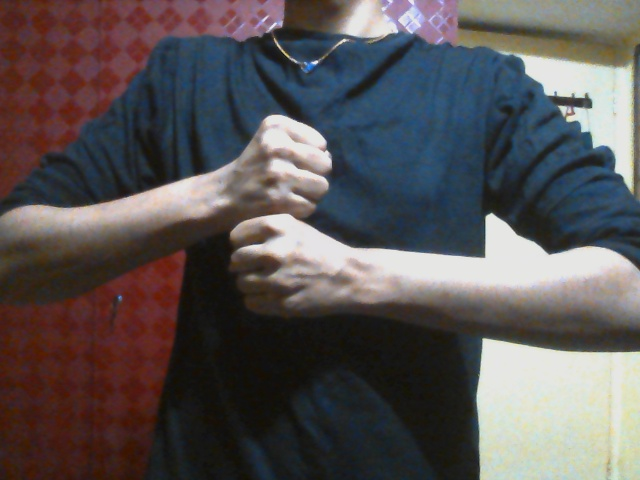G: (227, 111, 362, 320)
